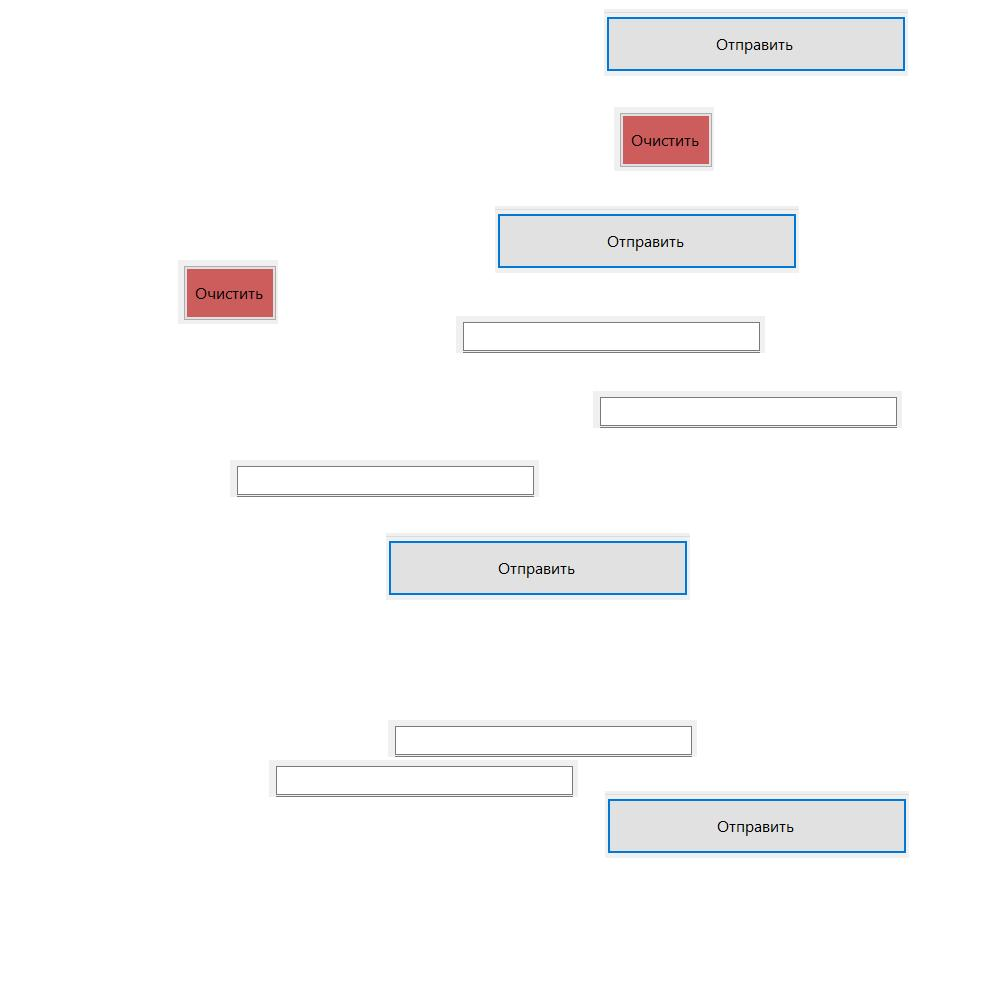Button: (604, 9, 908, 76), (495, 206, 799, 273), (605, 791, 909, 858), (386, 533, 690, 600), (614, 107, 714, 171), (178, 260, 278, 324)
EditText-: (456, 316, 765, 353), (388, 720, 697, 757), (593, 391, 902, 428), (269, 760, 578, 797), (230, 460, 539, 497)
